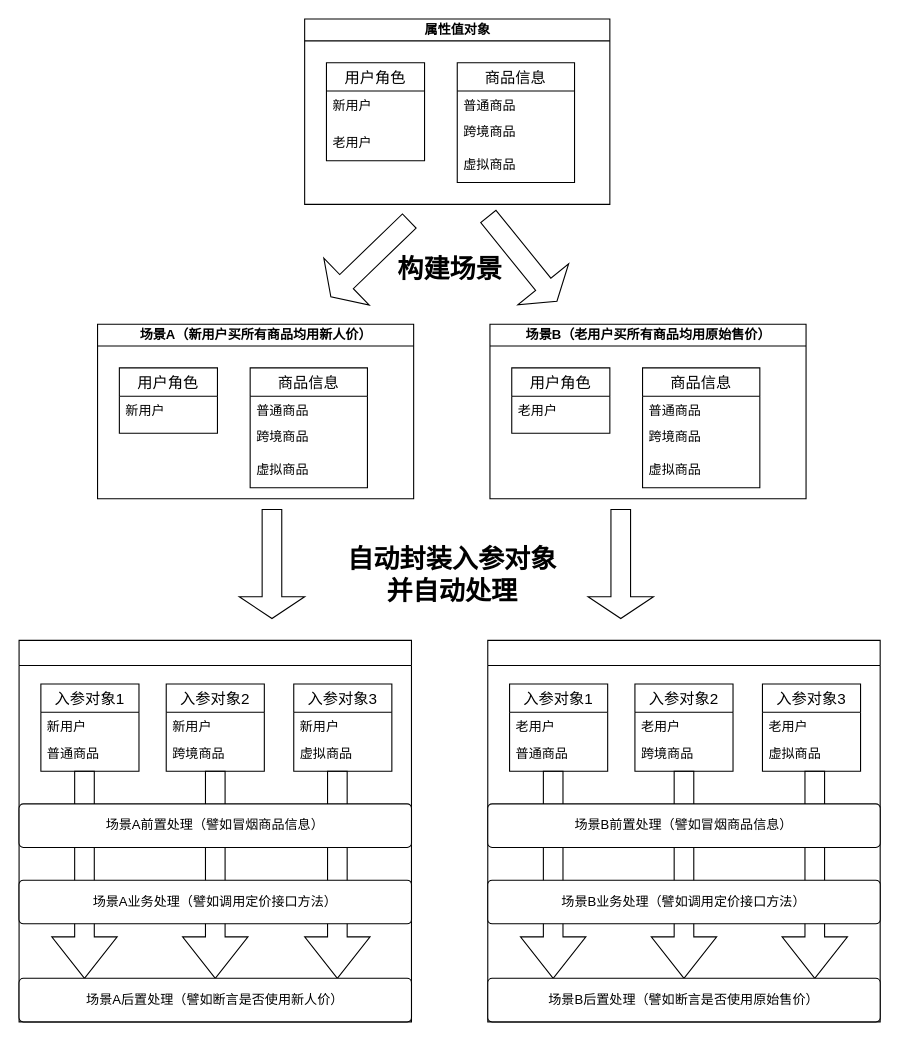
This 899x1041 diagram has some shape labels left out. The shapes that lost their labels are listed below. From the top down, each one's box as (x1, y1, x2, y2) in pixels, then its label:
(18, 639, 411, 1022): 场景A覆盖用例
(487, 639, 880, 1022): 场景B覆盖用例
